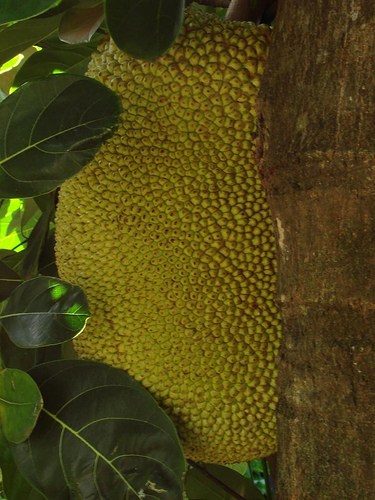jackfruit: (53, 15, 280, 463)
